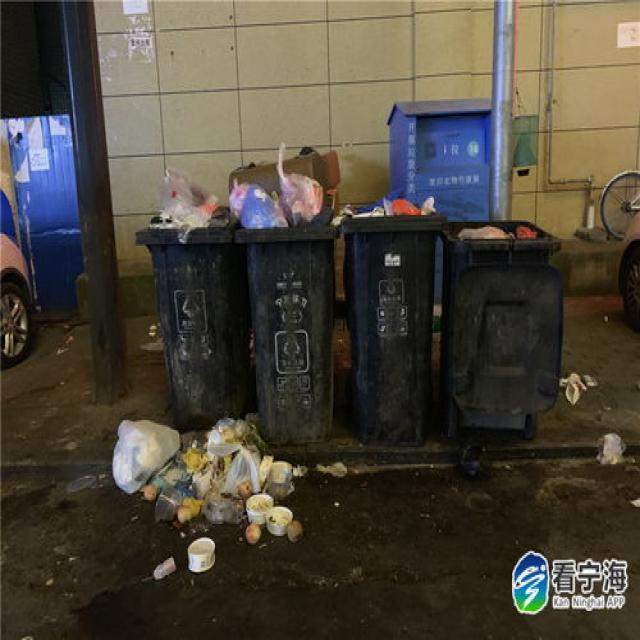garbage: (112, 413, 300, 575), (560, 370, 628, 464)
overflow: (230, 148, 340, 444), (438, 218, 564, 437), (339, 191, 444, 437), (136, 169, 234, 427)
